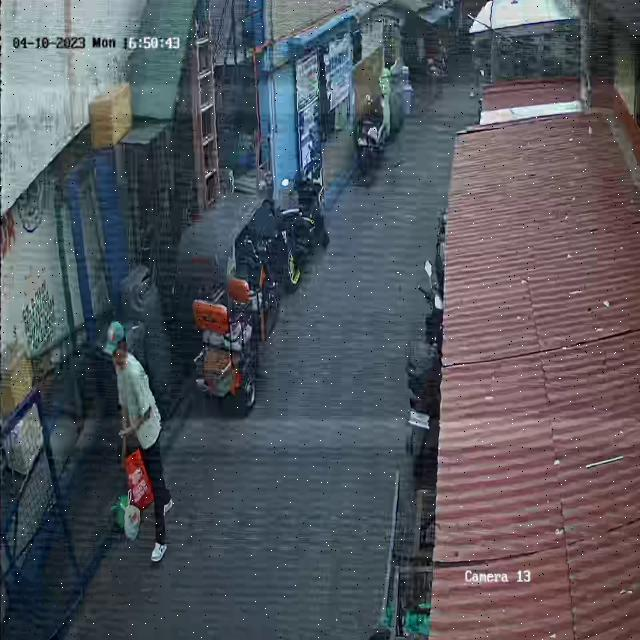garbage_dumping: (115, 448, 159, 508), (108, 497, 144, 540)
